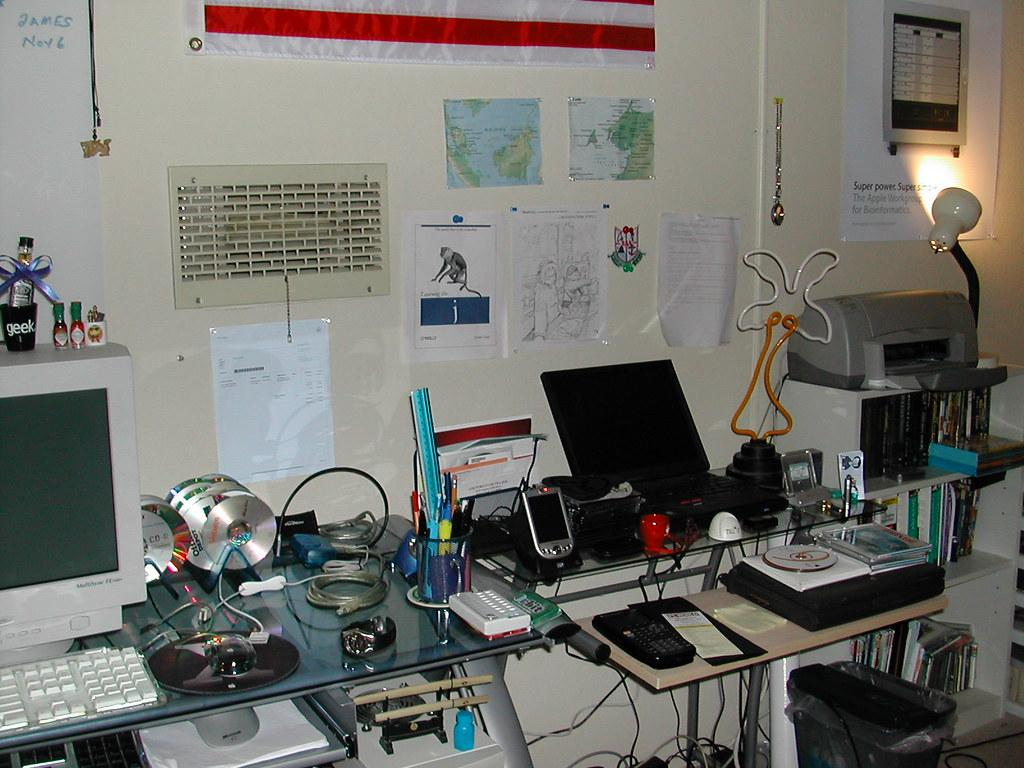computer: (1, 341, 167, 764), (539, 358, 789, 530)
